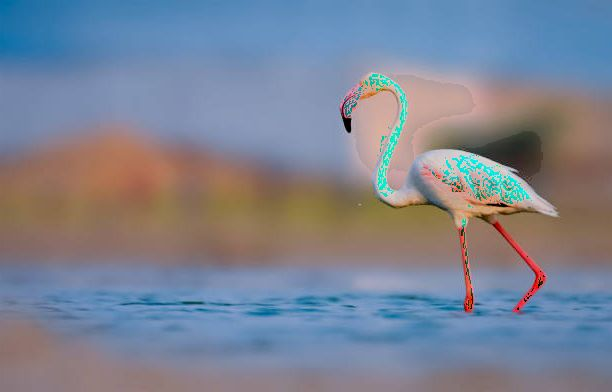Bird: (335, 65, 560, 317)
